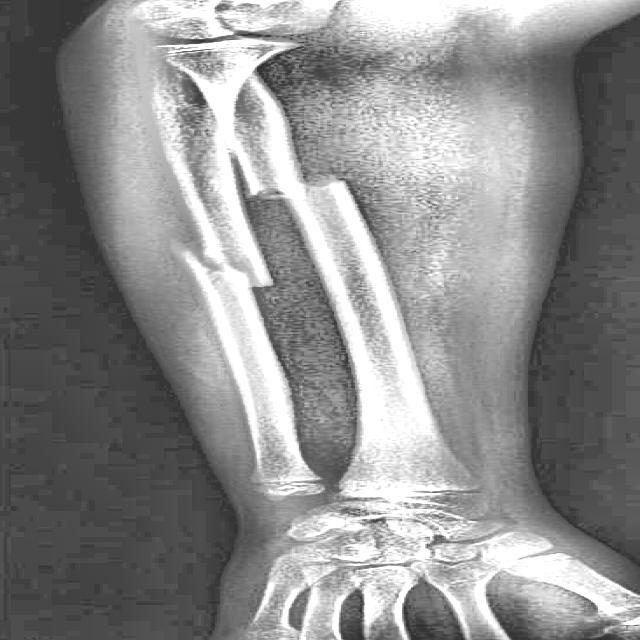messed_up_angle: (162, 236, 274, 288), (248, 175, 348, 200)
